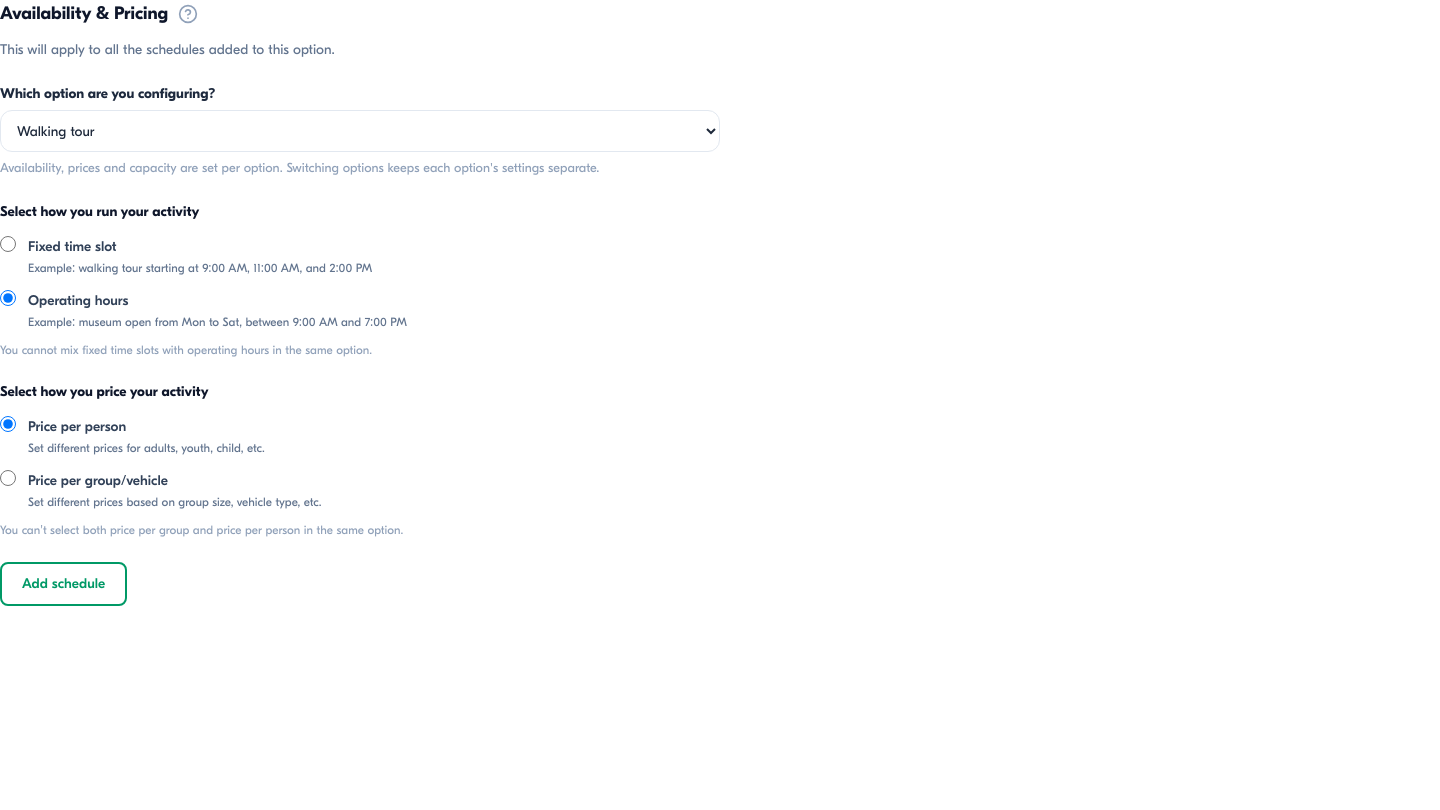
Scenario: Step14PricingAvailability schedule type switch › prompts before deleting opening hours + prices, and Cancel keeps everything
This screenshot has width=1440, height=810.
Click the text "Fixed time slot": (72, 246) x1=28 y1=238 x2=116 y2=254
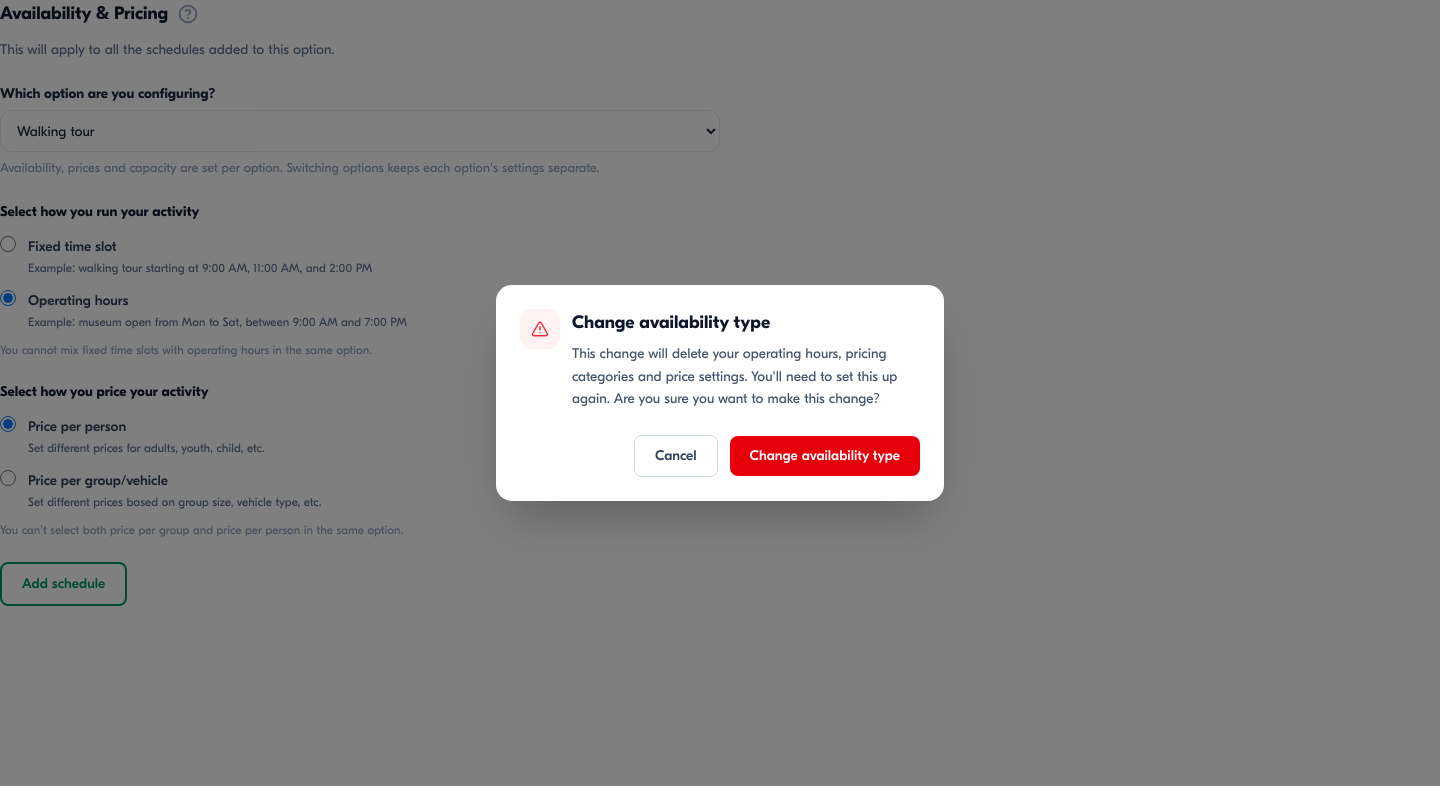
Expected: the dialog shows "Change availability type", x1=572 y1=312 x2=770 y2=333
Expected: the dialog shows "operating hours, pricing categories and price settings", x1=572 y1=345 x2=897 y2=407
Click the button "Cancel": (676, 456) x1=634 y1=435 x2=718 y2=477
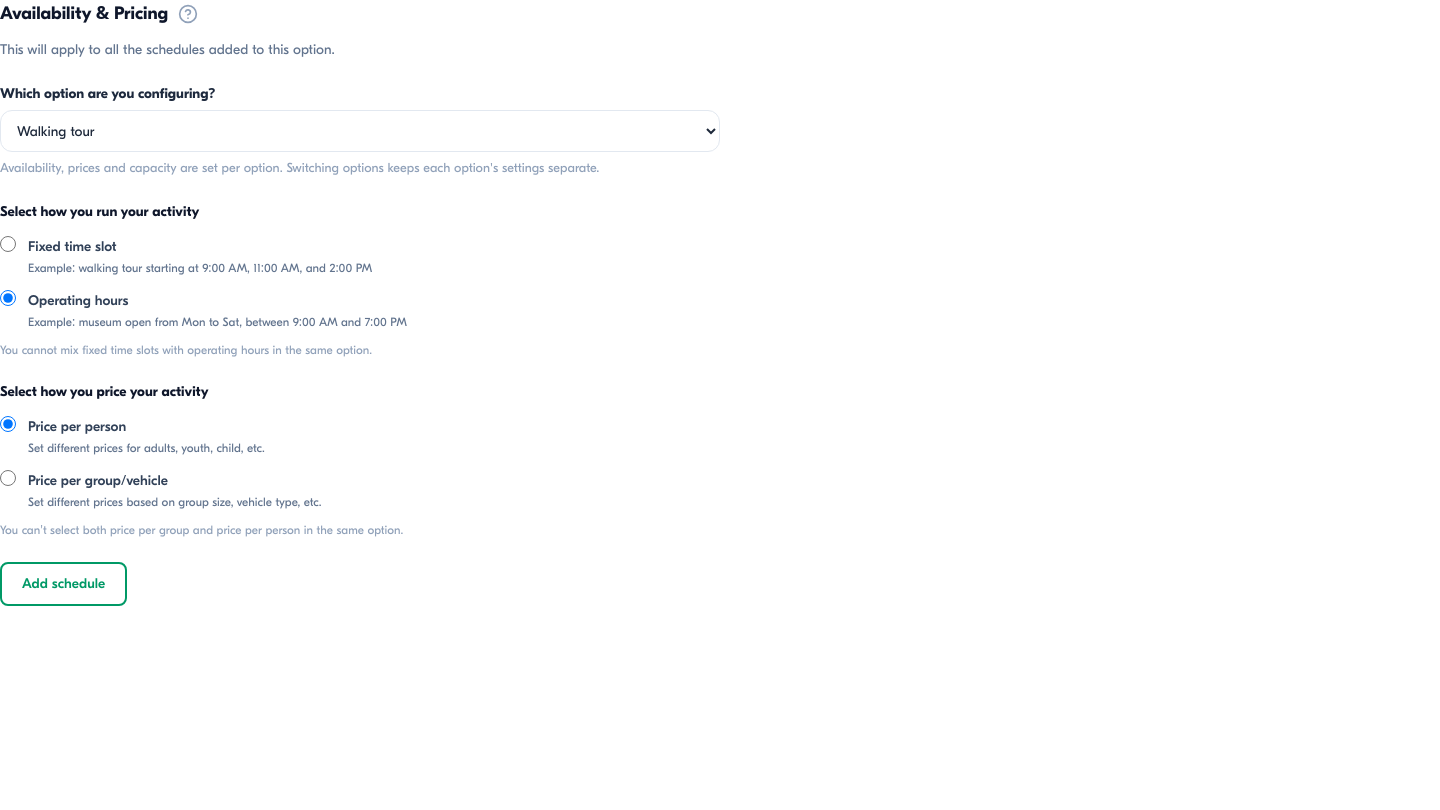
Expected: the dialog is gone
